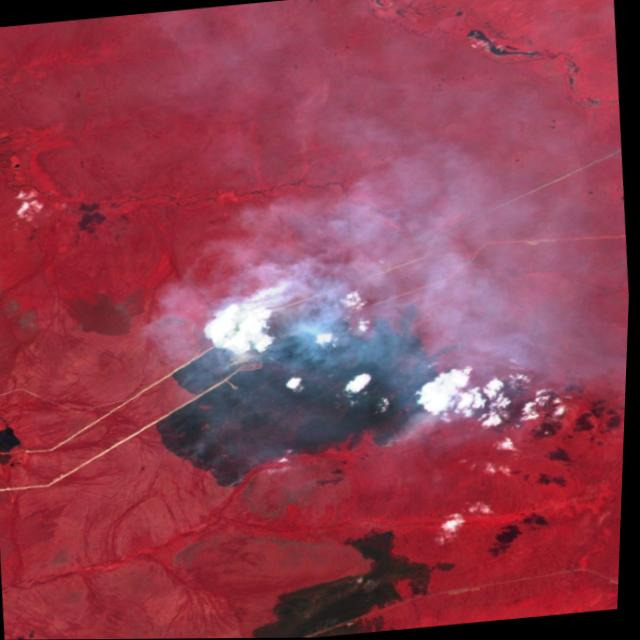fire: (140, 308, 484, 492)
